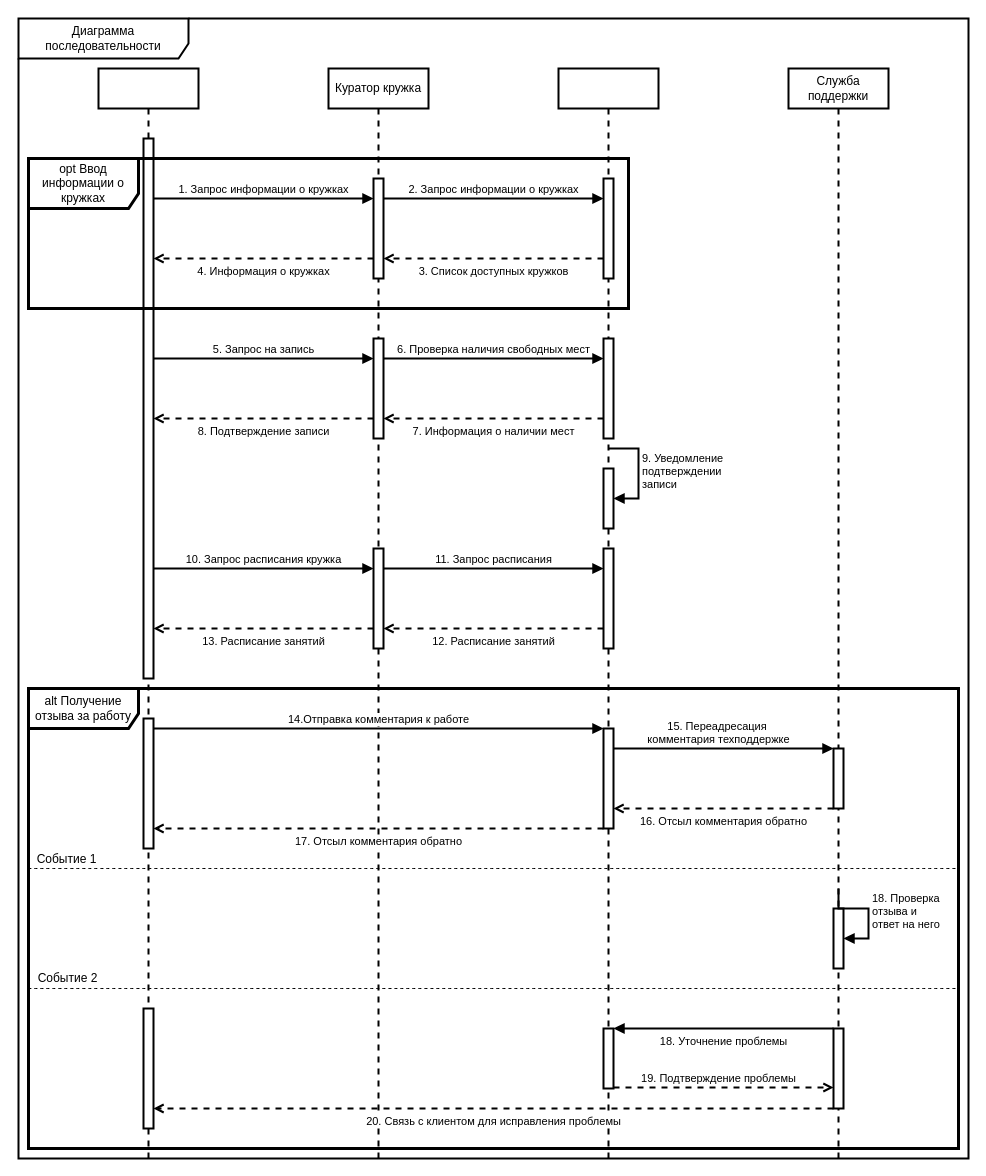
Some shapes in this 986 by 1176 pixel diagram are drawn without their labels. Here are the shapes that lost their labels. From the top down, the box of each, then its label:
(97, 67, 199, 1159): Ученик
(557, 67, 659, 1159): Кружок
